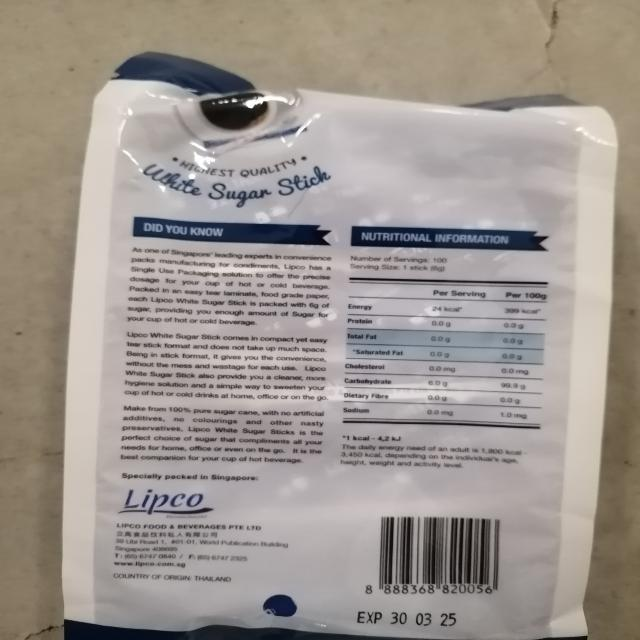object_name: (88, 83, 579, 637)
